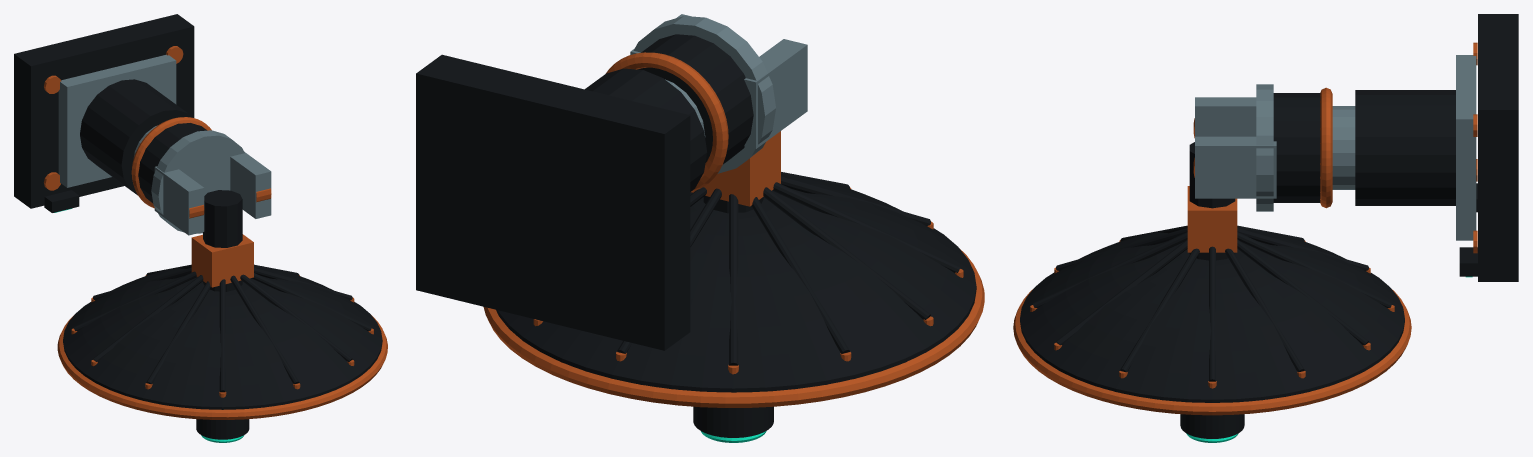
3 views of the same model, side by side, from view 1: azimuth 30°, elevation 25°; view 2: azimuth 150°, elevation 25°; view 3: azimuth 270°, elevation 25° (orthographic). The views are drawn at different scales.
Visible parts, largest first — view 1: RRL_M05_001_SegmentedReflector, RRL_M05_001_Mount_Plate, RRL_M05_001_Pedestal_Lower, RRL_M05_001_Mount_Skid, RRL_M05_001_Rear_Spoke, RRL_M05_001_Fork_Cheek, RRL_M05_001_Dish_Rim, RRL_M05_001_Yaw_Cap, RRL_M05_001_Spine_Collar, RRL_M05_001_Dish_Spine, RRL_M05_001_Yaw_Motor, RRL_M05_001_Yaw_Bearing (+3 smaller); view 2: RRL_M05_001_Mount_Plate, RRL_M05_001_SegmentedReflector, RRL_M05_001_Dish_Rim, RRL_M05_001_Rear_Spoke, RRL_M05_001_Yaw_Motor, RRL_M05_001_Yaw_Cap, RRL_M05_001_Fork_Cheek, RRL_M05_001_Pedestal_Lower, RRL_M05_001_Yaw_Bearing, RRL_M05_001_Spine_Collar, RRL_M05_001_Feed_Housing; view 3: RRL_M05_001_SegmentedReflector, RRL_M05_001_Pedestal_Lower, RRL_M05_001_Mount_Plate, RRL_M05_001_Rear_Spoke, RRL_M05_001_Fork_Cheek, RRL_M05_001_Dish_Rim, RRL_M05_001_Yaw_Motor, RRL_M05_001_Mount_Skid, RRL_M05_001_Spine_Collar, RRL_M05_001_Yaw_Cap, RRL_M05_001_Pedestal_Sleeve, RRL_M05_001_Yaw_Bearing (+3 smaller).
Part boxes in pixels (left/top/right/bottom): RRL_M05_001_SegmentedReflector: left=63, top=268, right=382, bottom=409; RRL_M05_001_Mount_Plate: left=14, top=14, right=194, bottom=208; RRL_M05_001_Pedestal_Lower: left=80, top=79, right=193, bottom=195; RRL_M05_001_Mount_Skid: left=58, top=54, right=176, bottom=187; RRL_M05_001_Rear_Spoke: left=74, top=264, right=371, bottom=392; RRL_M05_001_Fork_Cheek: left=154, top=152, right=271, bottom=235; RRL_M05_001_Dish_Rim: left=57, top=315, right=387, bottom=419; RRL_M05_001_Yaw_Cap: left=151, top=130, right=244, bottom=233; RRL_M05_001_Spine_Collar: left=191, top=234, right=253, bottom=287; RRL_M05_001_Dish_Spine: left=203, top=190, right=242, bottom=291; RRL_M05_001_Yaw_Motor: left=138, top=123, right=207, bottom=203; RRL_M05_001_Yaw_Bearing: left=131, top=117, right=211, bottom=208; RRL_M05_001_Mount_Plate: left=416, top=54, right=690, bottom=350; RRL_M05_001_SegmentedReflector: left=496, top=177, right=976, bottom=392; RRL_M05_001_Dish_Rim: left=483, top=249, right=984, bottom=407; RRL_M05_001_Rear_Spoke: left=617, top=172, right=960, bottom=365; RRL_M05_001_Yaw_Motor: left=637, top=34, right=753, bottom=164; RRL_M05_001_Yaw_Cap: left=633, top=16, right=775, bottom=173; RRL_M05_001_Fork_Cheek: left=630, top=14, right=807, bottom=148; RRL_M05_001_Pedestal_Lower: left=585, top=68, right=707, bottom=191; RRL_M05_001_Yaw_Bearing: left=606, top=52, right=728, bottom=191; RRL_M05_001_Spine_Collar: left=691, top=131, right=780, bottom=206; RRL_M05_001_Feed_Housing: left=693, top=406, right=773, bottom=437; RRL_M05_001_SegmentedReflector: left=1020, top=232, right=1404, bottom=402; RRL_M05_001_Pedestal_Lower: left=1355, top=90, right=1455, bottom=205; RRL_M05_001_Mount_Plate: left=1478, top=14, right=1518, bottom=281; RRL_M05_001_Rear_Spoke: left=1033, top=225, right=1391, bottom=381; RRL_M05_001_Fork_Cheek: left=1195, top=97, right=1276, bottom=198; RRL_M05_001_Dish_Rim: left=1013, top=289, right=1411, bottom=415; RRL_M05_001_Yaw_Motor: left=1273, top=93, right=1320, bottom=202; RRL_M05_001_Mount_Skid: left=1456, top=55, right=1476, bottom=240; RRL_M05_001_Spine_Collar: left=1187, top=186, right=1237, bottom=252; RRL_M05_001_Yaw_Cap: left=1256, top=84, right=1273, bottom=211; RRL_M05_001_Pedestal_Sleeve: left=1332, top=106, right=1355, bottom=189; RRL_M05_001_Yaw_Bearing: left=1320, top=87, right=1332, bottom=208.
Size of the model in its own units: 1.37 by 1.4 by 1.73.
